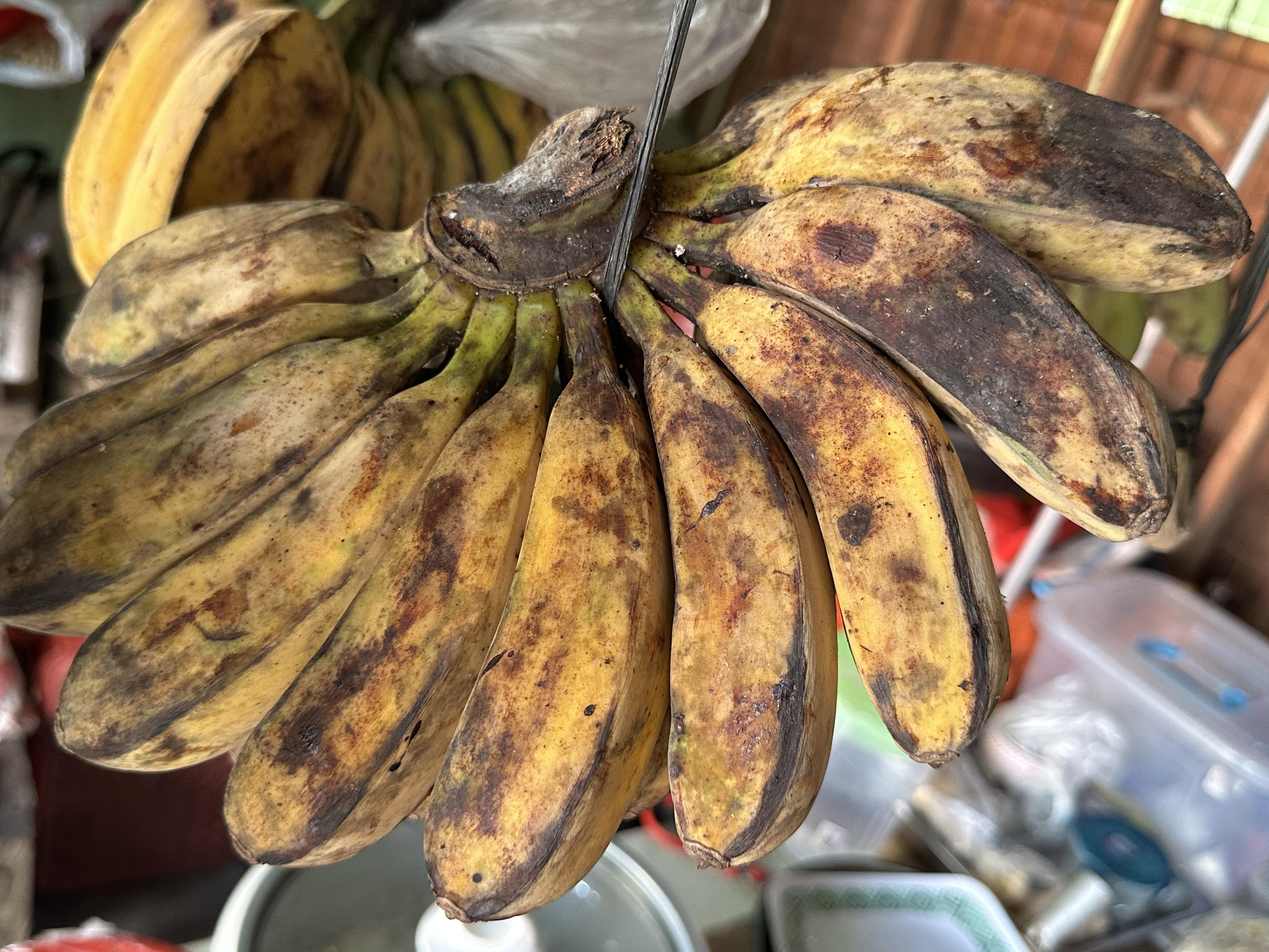ripe: (0, 63, 1256, 924), (63, 0, 545, 284)
